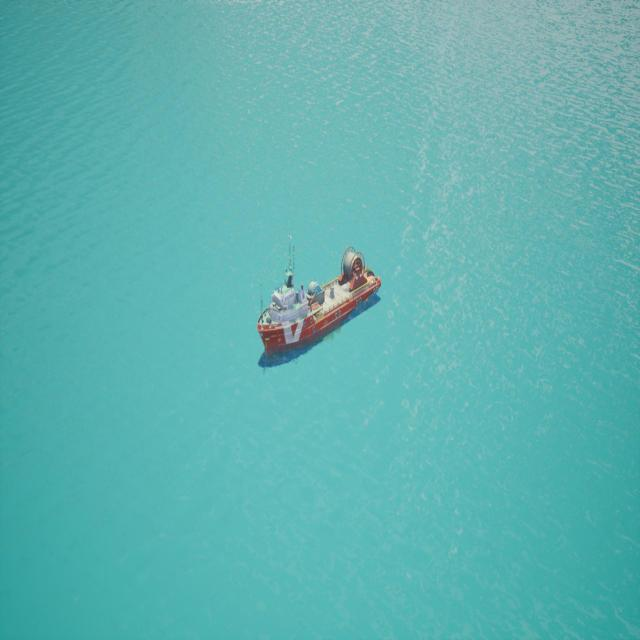tug boat: (257, 249, 383, 370)
